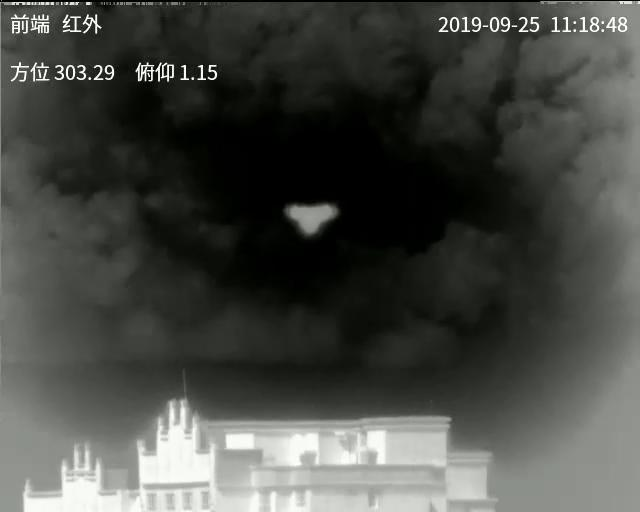uav: (283, 192, 337, 233)
